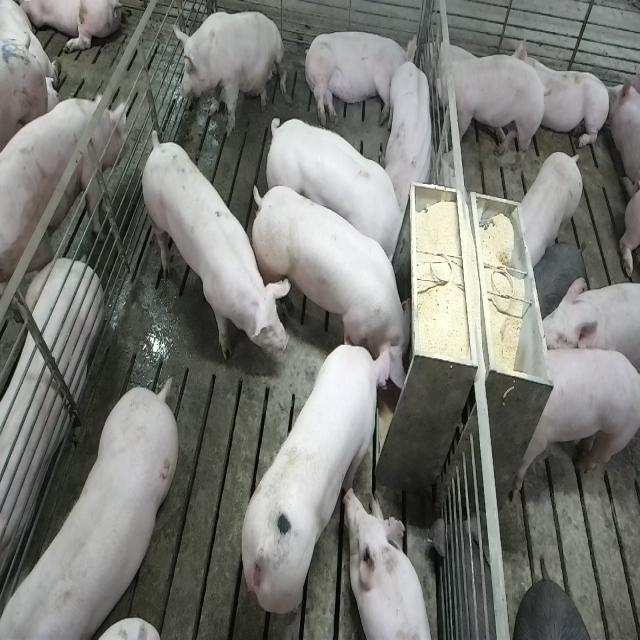Feeding: (239, 336, 394, 619), (254, 178, 420, 387)
Lateral_lying: (0, 260, 102, 607), (302, 28, 418, 127)
Sitting: (174, 8, 284, 138)
Standing: (0, 380, 176, 640), (137, 130, 285, 382), (0, 96, 127, 312), (265, 109, 406, 265), (510, 345, 638, 498), (424, 38, 552, 174), (538, 276, 640, 402), (515, 150, 586, 267), (531, 240, 589, 322)
Sternal_lying: (346, 489, 434, 640), (516, 34, 612, 156), (381, 50, 437, 210)
